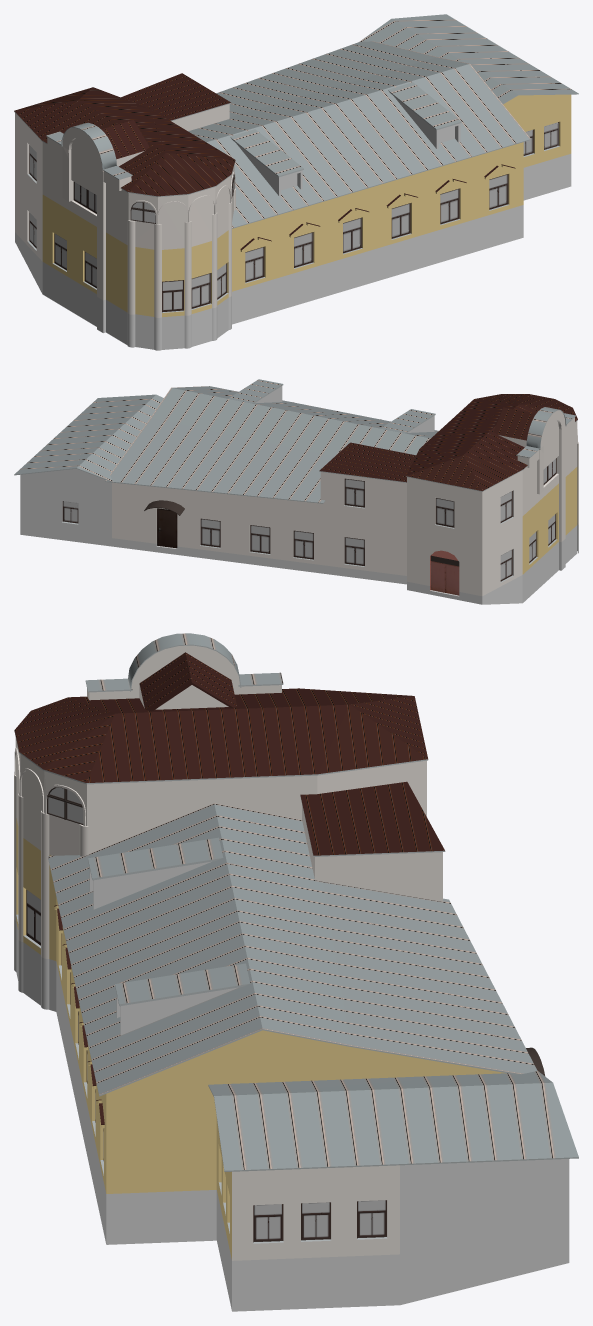
3 renders of one model, top to bottom at view 1: azimuth 30°, elevation 25°; view 2: azimuth 150°, elevation 25°; view 3: azimuth 270°, elevation 25°, orthographic. The views are drawn at different scales.
Parts seen in each view (by area): view 1: 01020-50@110502; view 2: 01020-50@110502; view 3: 01020-50@110502.
Part boxes in pixels (bbox=[...]): 01020-50@110502: bbox=[14, 14, 578, 350]; 01020-50@110502: bbox=[14, 379, 578, 604]; 01020-50@110502: bbox=[14, 633, 578, 1311].
Size of the model in its own units: 32.63 by 11.58 by 20.02.
Materials: 1 (1 with a texture image).
